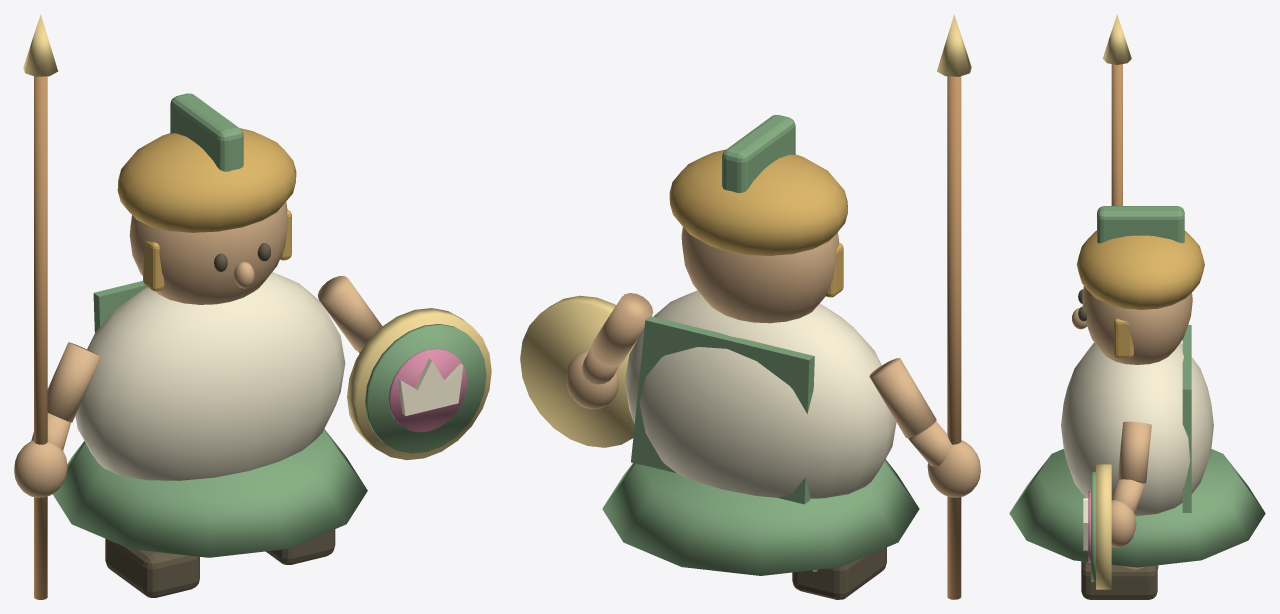
The model's file is squat.glb.
3 views of the same model, side by side, from view 1: azimuth 30°, elevation 25°; view 2: azimuth 150°, elevation 25°; view 3: azimuth 270°, elevation 25° (orthographic). The views are drawn at different scales.
Visible parts, largest first — view 1: body.003, skirt.004, helmet.004, head.004, shield_face.004, spear.004, shield.004, foot.-1.004, crest.004, badge.004, upper_arm.-1.004, upper_arm.005 (+7 smaller); view 2: body.003, skirt.004, helmet.004, shield.004, head.004, spear.004, cape.004, crest.004, upper_arm.-1.004, upper_arm.005, foot.-1.004, hand.-1.004 (+4 smaller); view 3: body.003, skirt.004, helmet.004, head.004, crest.004, foot.005, shield.004, upper_arm.005, spear.004, cape.004, hand.005, spear_tip.004 (+3 smaller).
Part boxes in pixels (x1,y1,x2,y2): body.003: (75,272,345,480); skirt.004: (52,429,367,557); helmet.004: (117,128,296,232); head.004: (129,201,288,304); shield_face.004: (365,324,486,453); spear.004: (34,76,47,599); shield.004: (347,308,491,460); foot.-1.004: (105,538,199,597); crest.004: (170,93,243,171); badge.004: (388,348,467,432); upper_arm.-1.004: (47,342,101,422); upper_arm.005: (318,276,382,351); body.003: (624,290,896,498); skirt.004: (602,459,919,575); helmet.004: (669,149,847,255); shield.004: (520,295,637,447); head.004: (681,227,838,323); spear.004: (947,76,961,599); cape.004: (631,316,814,504); crest.004: (722,115,795,192); upper_arm.-1.004: (869,358,936,438); upper_arm.005: (591,293,653,366); foot.-1.004: (792,547,886,599); hand.-1.004: (927,440,980,497); body.003: (1061,342,1213,515); skirt.004: (1009,449,1265,567); helmet.004: (1076,230,1204,309); head.004: (1082,286,1192,364); crest.004: (1097,206,1184,243); foot.005: (1081,561,1157,599); shield.004: (1096,464,1111,589); upper_arm.005: (1117,421,1151,483); spear.004: (1111,64,1122,205); cape.004: (1182,325,1191,512); hand.005: (1111,500,1136,547); spear_tip.004: (1102,14,1131,64).
Bounding box in the file's own units: 1.92 × 2.35 × 1.14.
